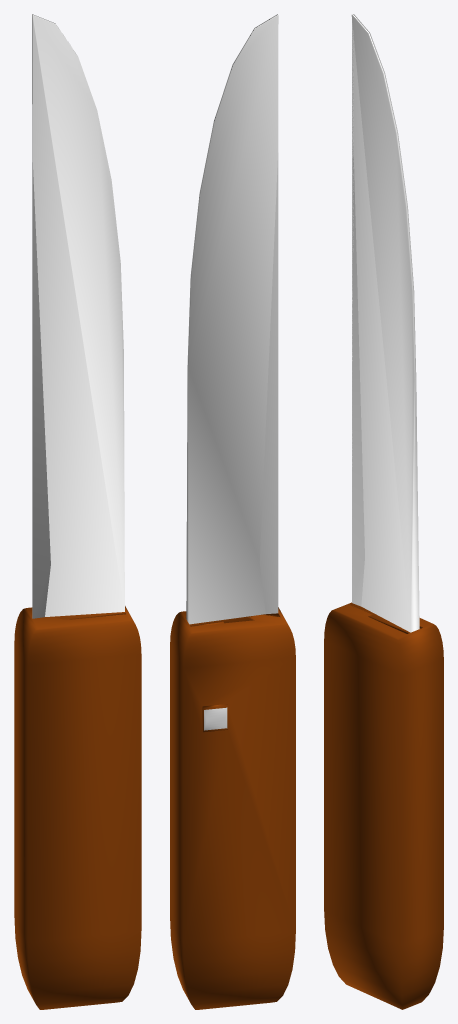
The model's file is knife.glb.
The picture shows the model from 3 angles, left to right: view 1: azimuth 30°, elevation 25°; view 2: azimuth 210°, elevation 25°; view 3: azimuth 330°, elevation 25°; orthographic projection. The views are drawn at different scales.
Visible parts, largest first — view 1: Cube; view 2: Cube; view 3: Cube.
Part boxes in pixels (left/top/right/bottom): Cube: left=14, top=14, right=141, bottom=1009; Cube: left=170, top=14, right=295, bottom=1009; Cube: left=324, top=14, right=443, bottom=1009.
Bounding box in the file's own units: 0.7178 × 6.11 × 0.5039.
